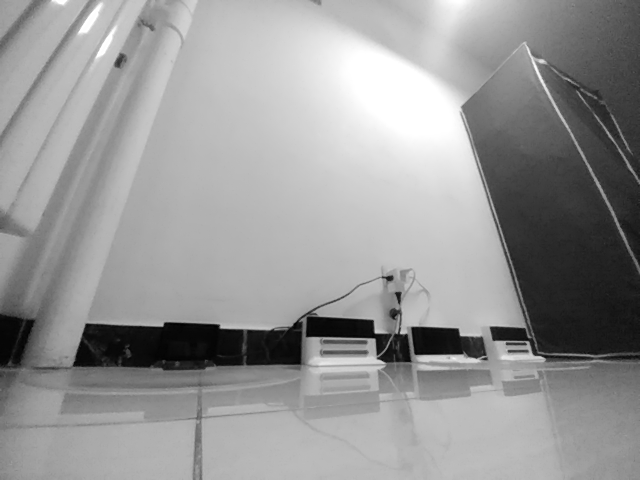Ruby: (299, 315, 384, 368), (481, 325, 546, 362)
TanosV: (404, 325, 484, 364), (159, 322, 224, 368)
